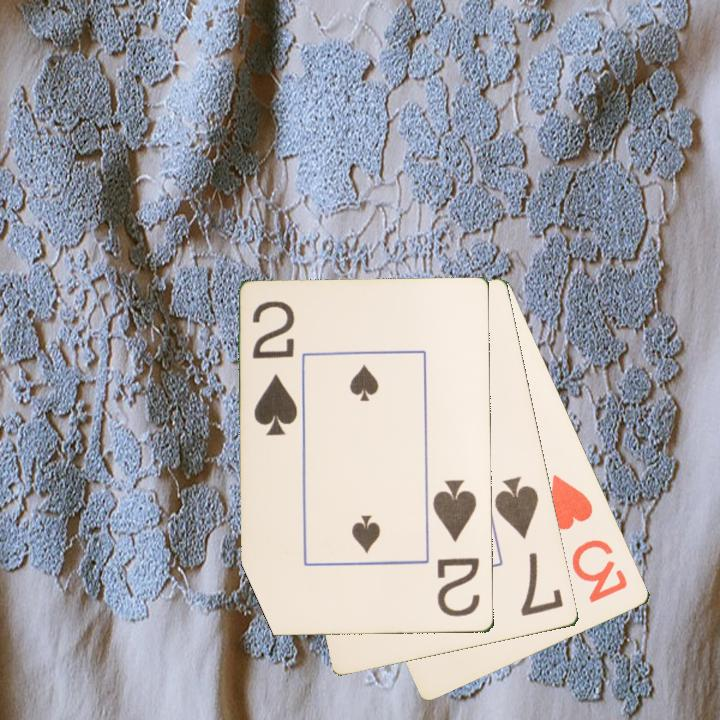2s: (429, 477, 483, 620), (249, 297, 301, 439)
3h: (546, 471, 631, 606)
7s: (491, 472, 567, 620)
